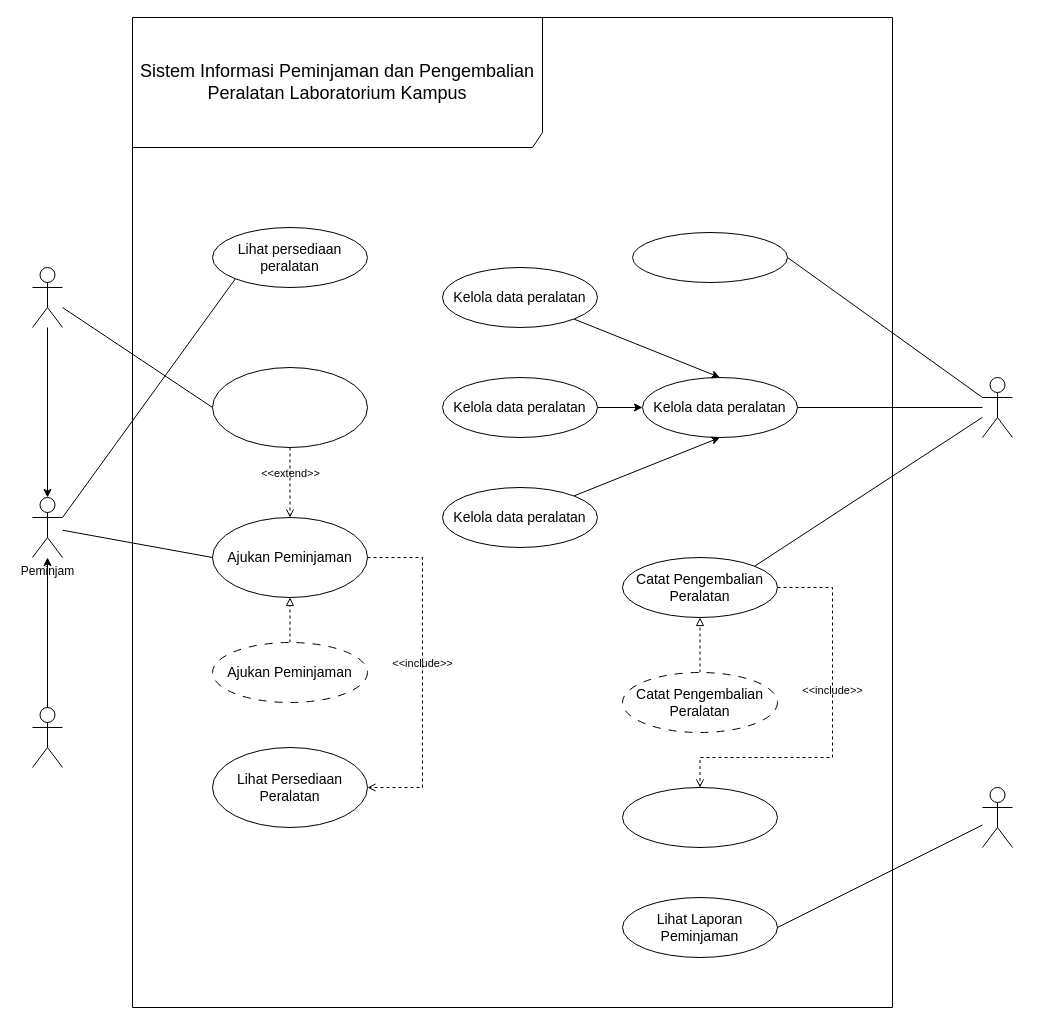
Some shapes in this 1060 by 1025 pixel diagram are drawn without their labels. The box of each missing label's shape, as (x1, y1, x2, y2) in pixels:
Cetak Bukti Pengajuan: (212, 366, 368, 448)
Dosen: (32, 706, 62, 768)
Kepala Laboran: (982, 786, 1012, 848)
Mahasiswa: (32, 266, 62, 328)
Periksa Kondisi Peralatan: (622, 786, 778, 848)
Petugas Laboran: (982, 376, 1012, 438)
Proses Keputusan Peminjaman: (632, 232, 788, 282)
